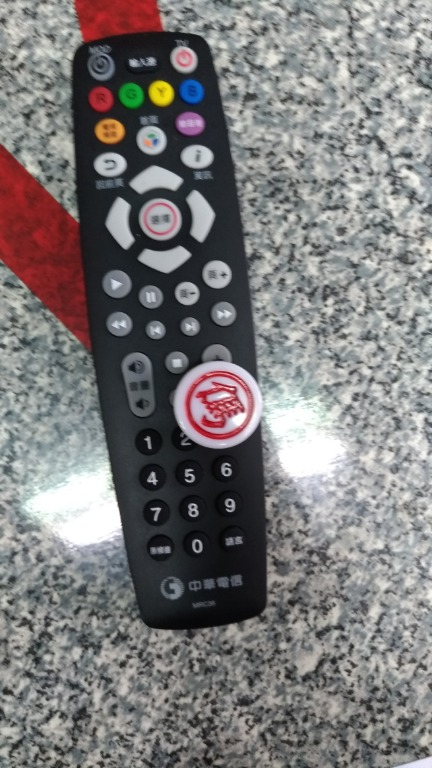r-knight: (168, 360, 276, 459)
